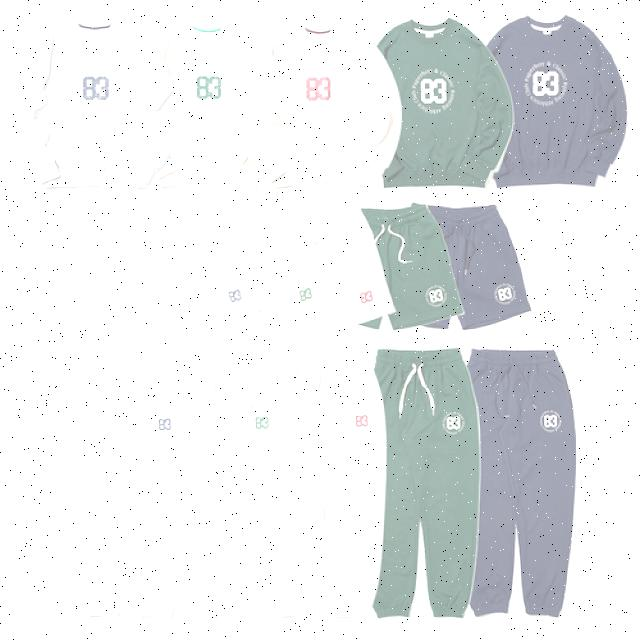Blouse_deep: (61, 330, 569, 624), (112, 202, 537, 330)
